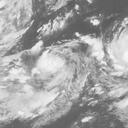cyclone: (34, 46, 81, 96), (108, 30, 127, 75)
